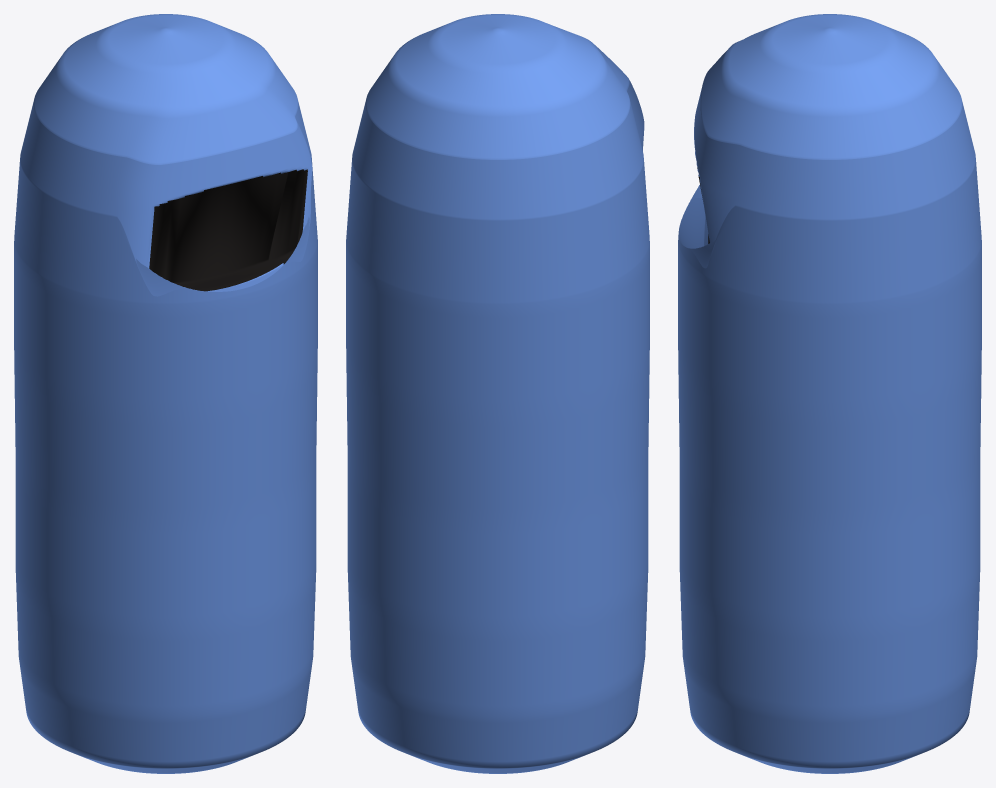
The model's file is sunsun-body.glb.
3 renders of one model, left to right at view 1: azimuth 30°, elevation 25°; view 2: azimuth 150°, elevation 25°; view 3: azimuth 270°, elevation 25°, orthographic.
Visible parts, largest first — view 1: SunsunBody; view 2: SunsunBody; view 3: SunsunBody.
Boxes of the visible parts, <box> form: SunsunBody: <box>14,14,317,773</box>; SunsunBody: <box>346,14,649,773</box>; SunsunBody: <box>678,14,981,773</box>.
Size of the model in its own units: 1.01 by 2.6 by 1.01.
